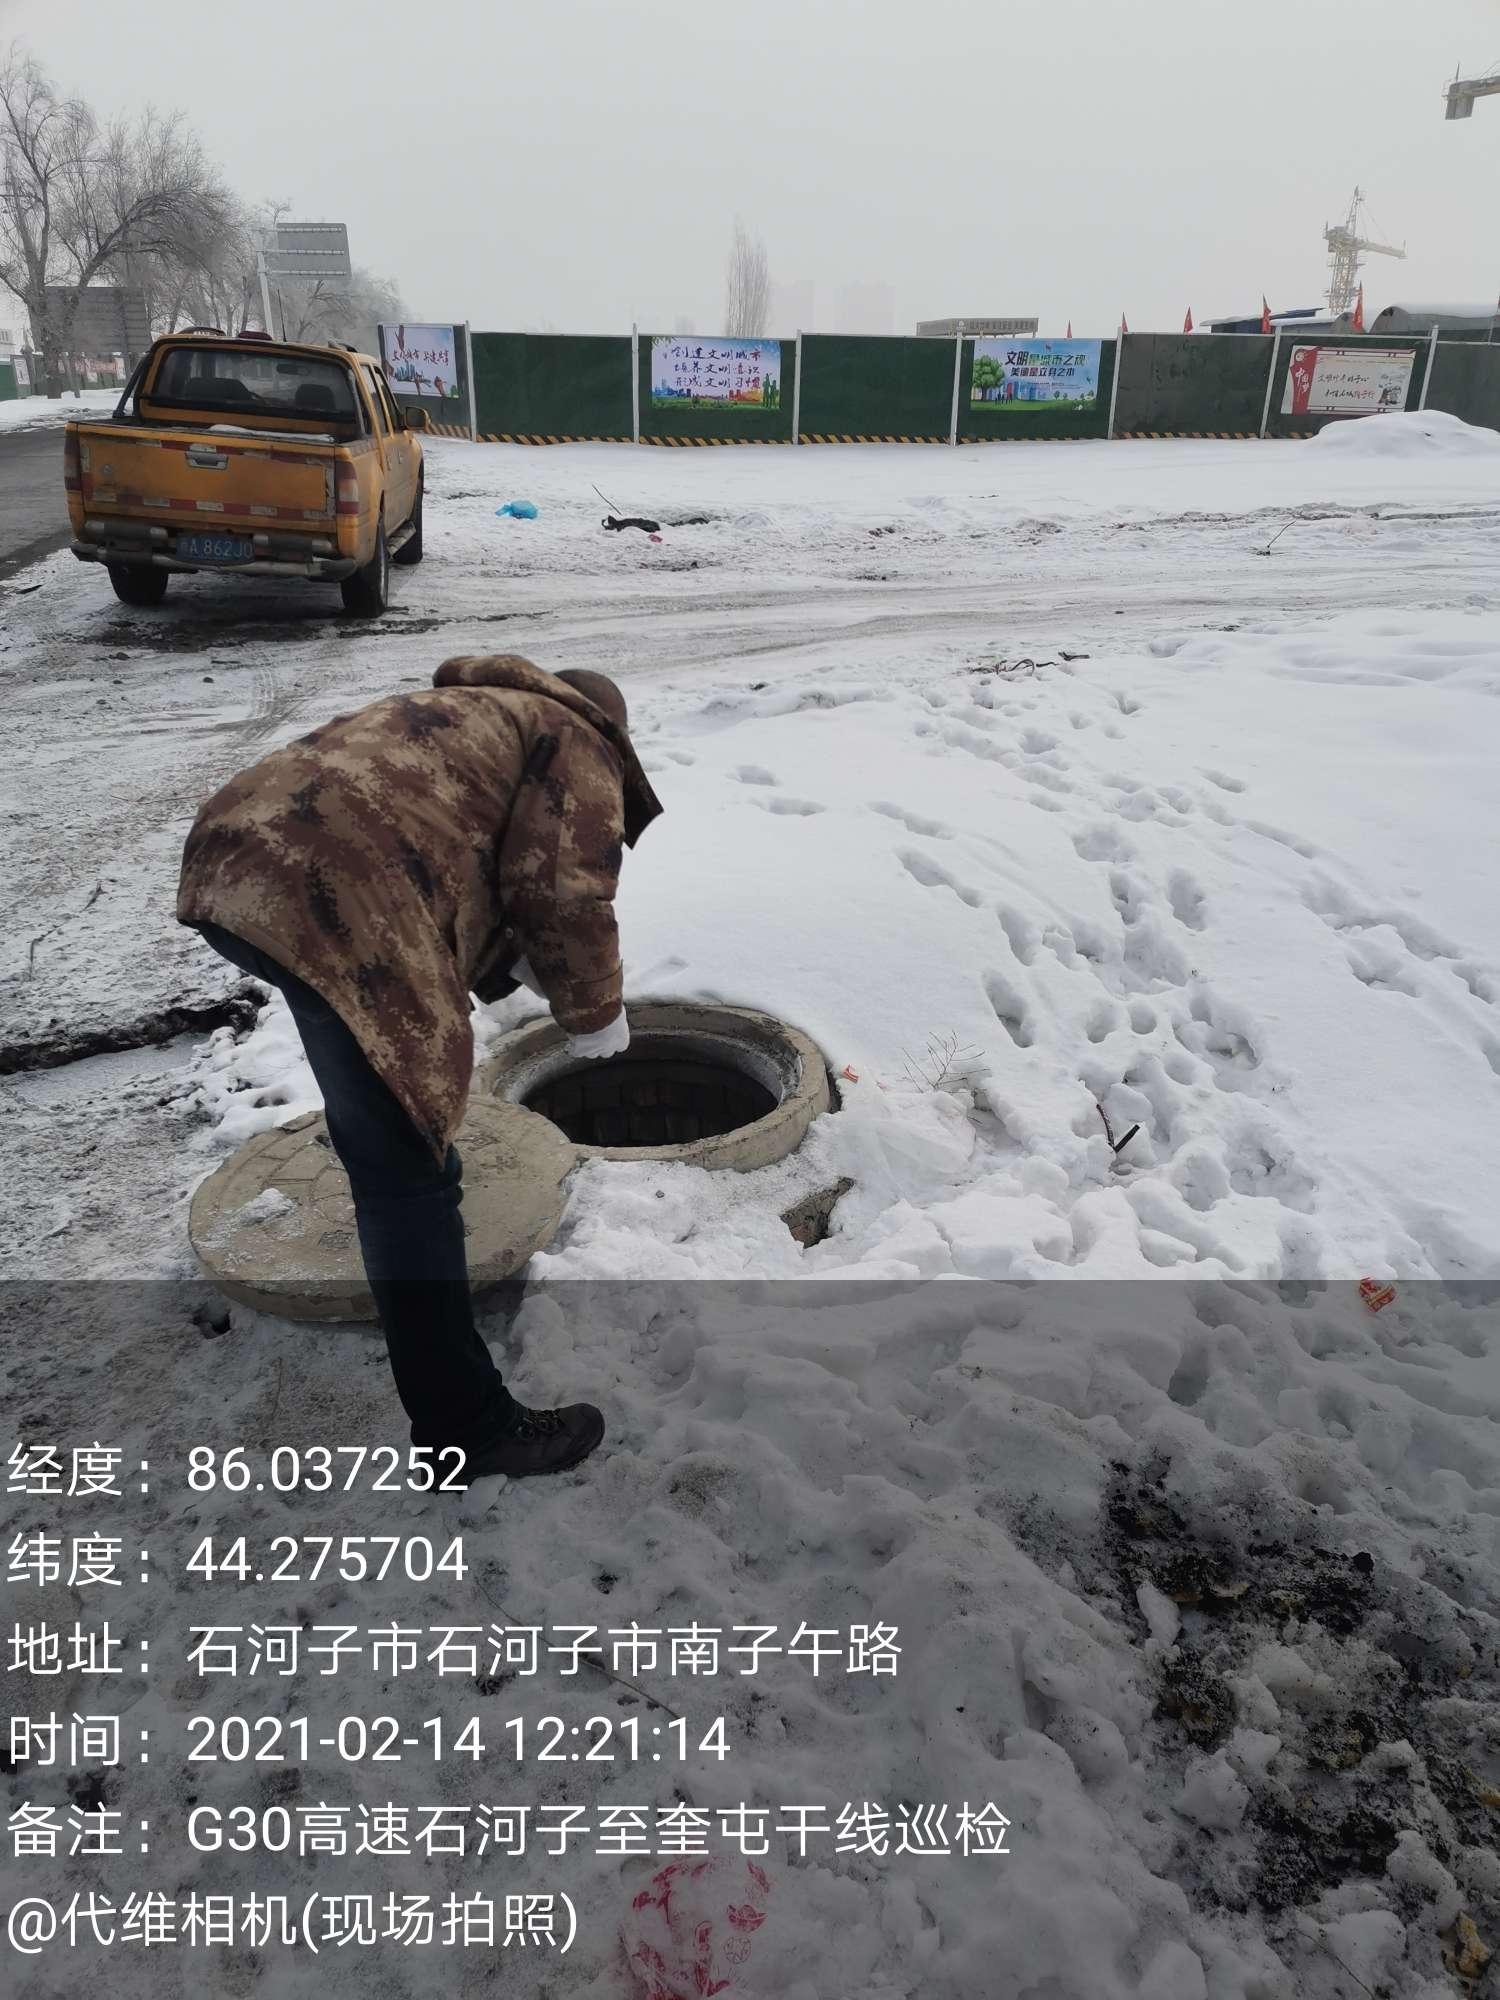wellcover: (54, 995, 919, 1290)
